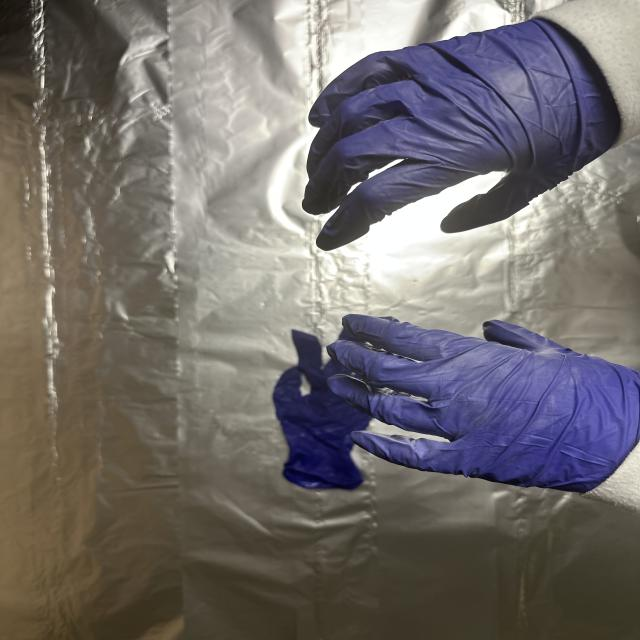gloves_contaminated: (302, 20, 620, 250), (328, 314, 640, 493)
